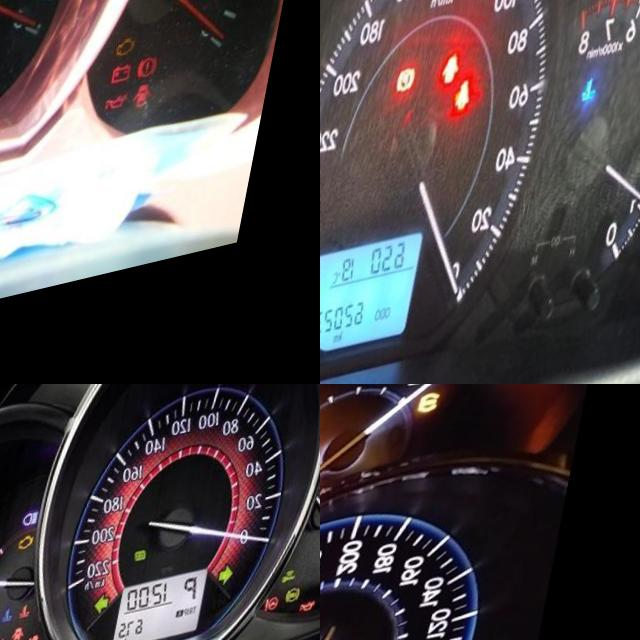Electronic Power Steering: (283, 619, 298, 635)
High Engine Coolant Temperature: (35, 614, 48, 630)
Seat Belt: (463, 94, 486, 129)
